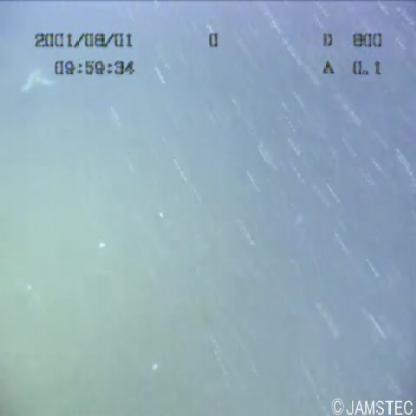Rác: (20, 64, 55, 93)
